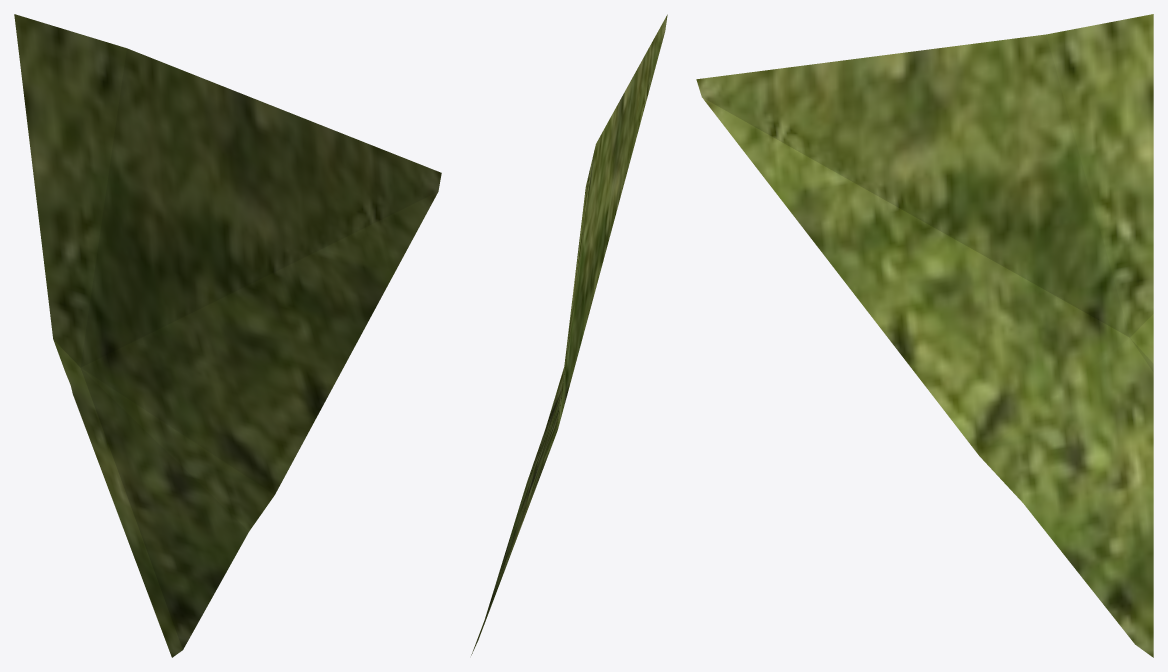
The picture shows the model from 3 angles, left to right: view 1: azimuth 30°, elevation 25°; view 2: azimuth 150°, elevation 25°; view 3: azimuth 270°, elevation 25°; orthographic projection. The views are drawn at different scales.
Bounding box in the file's own units: 0.4012 × 1.66 × 1.19.
1 material, 1 textured.
